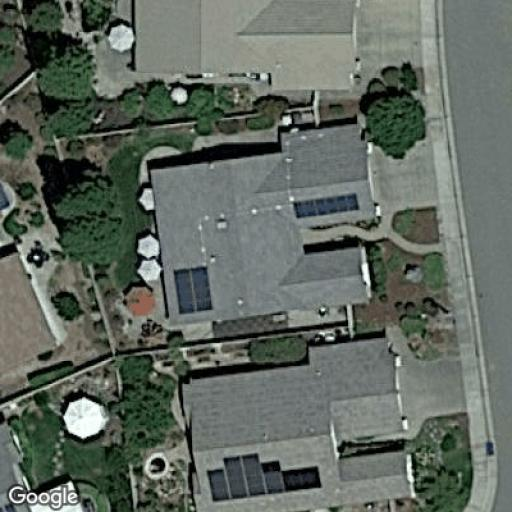solar-panel: (204, 451, 324, 505), (170, 263, 216, 315), (290, 191, 362, 220)
